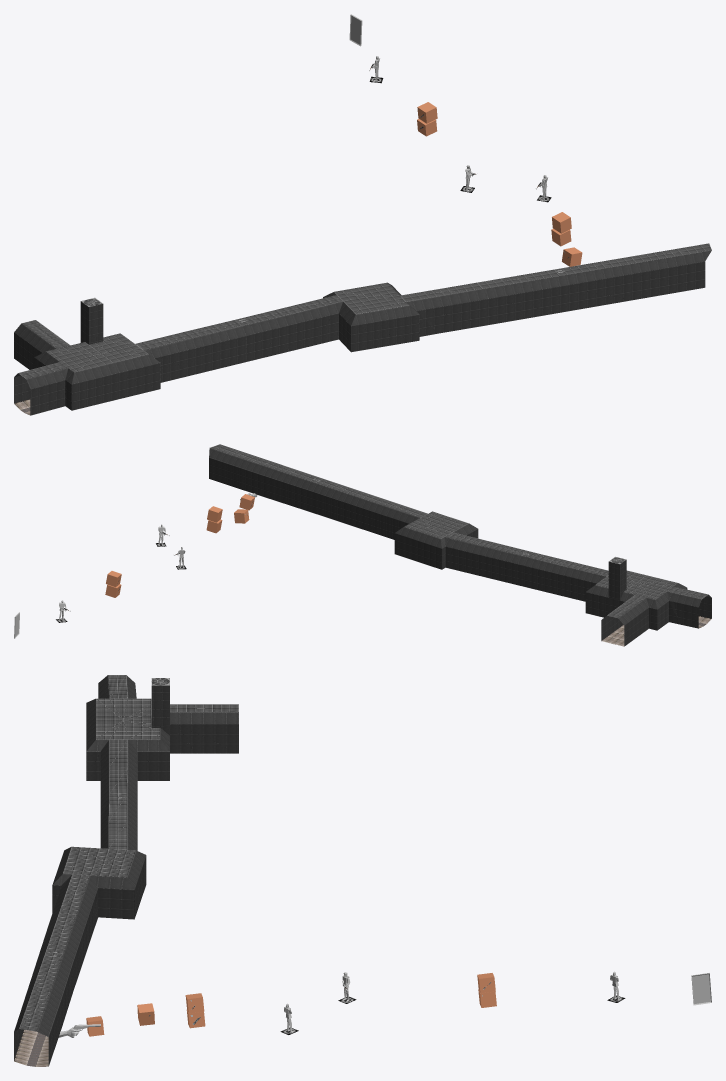
Rendered from dam16.obj.
3 views of the same model, one above another, from view 1: azimuth 30°, elevation 25°; view 2: azimuth 150°, elevation 25°; view 3: azimuth 270°, elevation 25° (orthographic). The views are drawn at different scales.
Parts seen in each view (by area): view 1: 171_61410439_c.bmp, 112_61410439_c.bmp, 003_61410439_c.bmp, 174_1BE3C87_c.bmp, 118_61410439_c.bmp, 116_1BE3C87_c.bmp, 006_1BE3C87_c.bmp, 121_1BE3C87_c.bmp, 113_61410439_c.bmp; view 2: 171_61410439_c.bmp, 112_61410439_c.bmp, 003_61410439_c.bmp, 118_61410439_c.bmp, 174_1BE3C87_c.bmp, 116_1BE3C87_c.bmp, 006_1BE3C87_c.bmp, 121_1BE3C87_c.bmp, 172_2667E92D_c.bmp; view 3: 171_61410439_c.bmp, 112_61410439_c.bmp, 174_1BE3C87_c.bmp, 116_1BE3C87_c.bmp, 003_61410439_c.bmp, 006_1BE3C87_c.bmp, 121_1BE3C87_c.bmp, 118_61410439_c.bmp, 004_2667E92D_c.bmp.
Part boxes in pixels (x1,y1,x2,y2): 171_61410439_c.bmp: (14,301,246,415); 112_61410439_c.bmp: (323,276,560,352); 003_61410439_c.bmp: (559,250,711,312); 174_1BE3C87_c.bmp: (18,319,242,378); 118_61410439_c.bmp: (243,301,342,361); 116_1BE3C87_c.bmp: (334,269,558,314); 006_1BE3C87_c.bmp: (555,243,711,275); 121_1BE3C87_c.bmp: (236,295,342,325); 113_61410439_c.bmp: (351,305,419,325); 171_61410439_c.bmp: (521,556,711,646); 112_61410439_c.bmp: (310,483,478,569); 003_61410439_c.bmp: (209,448,314,511); 118_61410439_c.bmp: (444,537,525,585); 174_1BE3C87_c.bmp: (526,552,707,618); 116_1BE3C87_c.bmp: (315,479,468,538); 006_1BE3C87_c.bmp: (210,444,323,482); 121_1BE3C87_c.bmp: (445,532,532,556); 172_2667E92D_c.bmp: (601,616,711,646); 171_61410439_c.bmp: (86,675,238,802); 112_61410439_c.bmp: (38,850,146,990); 174_1BE3C87_c.bmp: (96,675,238,794); 116_1BE3C87_c.bmp: (46,846,135,953); 003_61410439_c.bmp: (14,952,73,1066); 006_1BE3C87_c.bmp: (19,951,63,1031); 121_1BE3C87_c.bmp: (108,794,127,849); 118_61410439_c.bmp: (100,794,137,850); 004_2667E92D_c.bmp: (14,1030,48,1066).
Size of the model in its own units: 0.9767 by 0.1091 by 0.8077.
